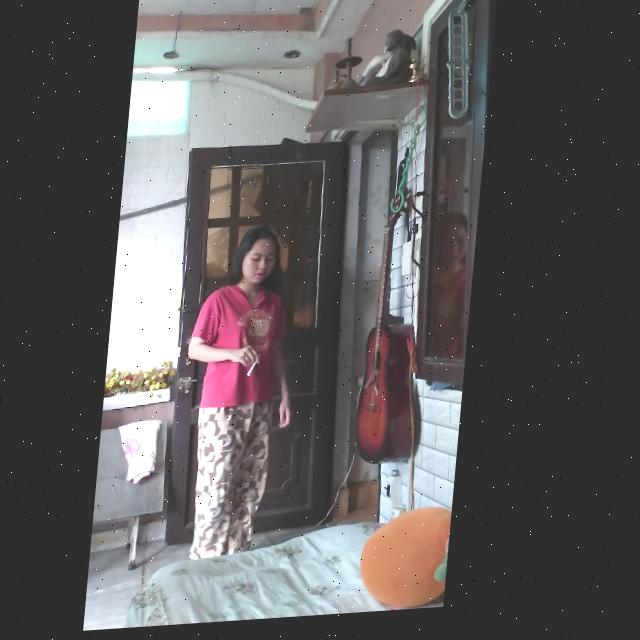cigarette: (254, 358, 268, 380)
